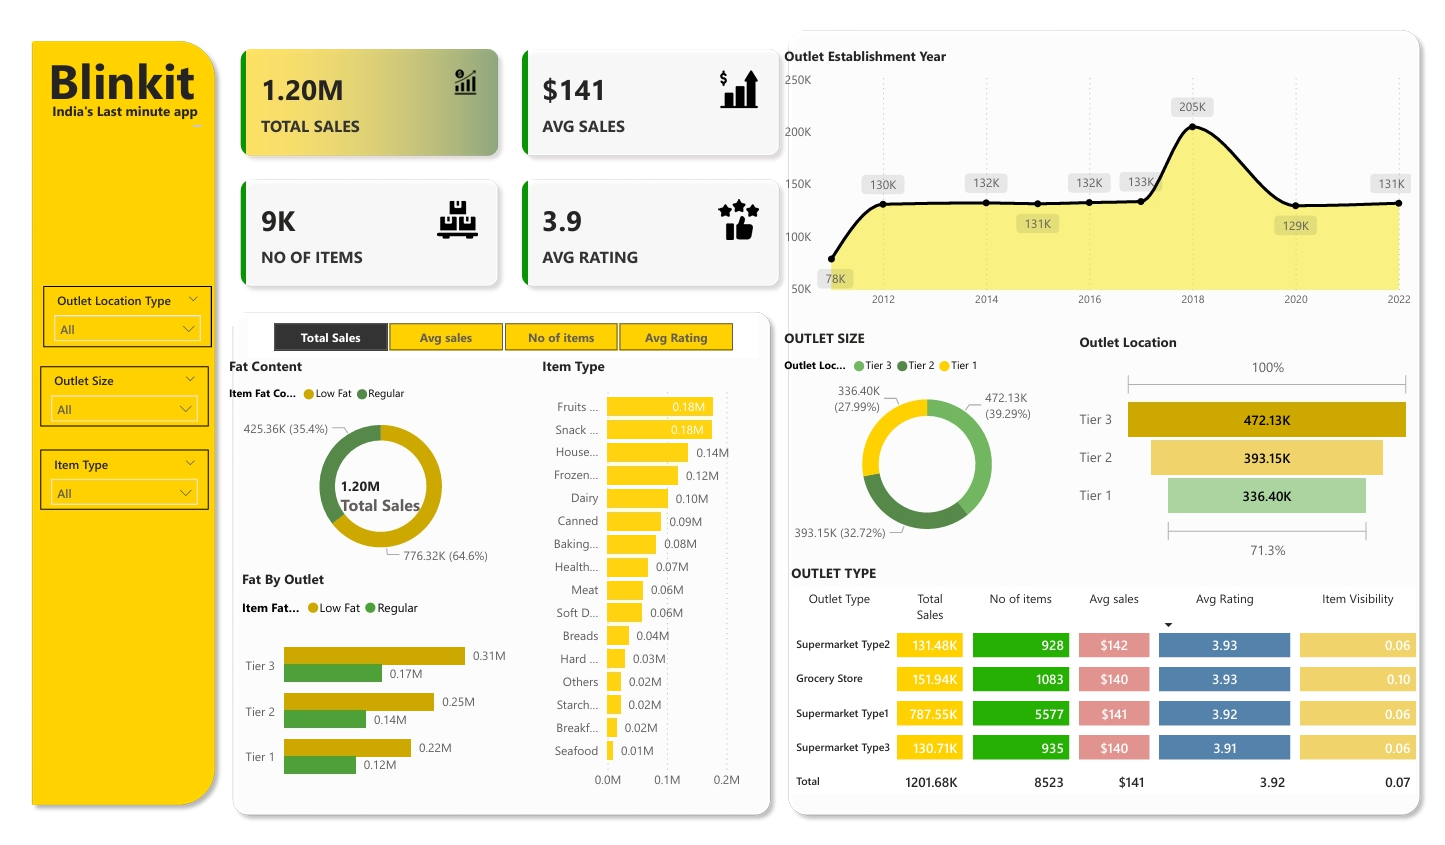

Layout of this report page (visuals, bound fields, positions):
{"tool":"powerbi","page":{"name":"Page 1","canvas":[1400,800],"ordinal":0},"visuals":[{"type":"shape","box":[0,10.5,199.8,779.8],"z":0},{"type":"textbox","box":[268.7,609.4,199.6,165.1],"z":1000},{"type":"textbox","title":"Blinkit","box":[19.5,25.5,160.6,70.5],"z":2000},{"type":"textbox","title":"India''s Last minute app","box":[19.5,81,163.6,28.5],"z":3000},{"type":"cardVisual","fields":{"Data":["BlinkIT Grocery Data.Total Sales","BlinkIT Grocery Data.Avg sales","BlinkIT Grocery Data.No of items","BlinkIT Grocery Data.Avg Rating"]},"box":[199.6,10.5,570.3,270.2],"z":4000},{"type":"shape","box":[199.6,280.7,553.8,519.3],"z":5000},{"type":"donutChart","title":" Fat Content","fields":{"Y":["BlinkIT Grocery Data.Total Sales"],"Category":["BlinkIT Grocery Data.Item Fat Content"]},"box":[199.6,334.7,312.2,213.1],"z":6000},{"type":"slicer","fields":{"Values":["Metrics.Metrics"]},"box":[223.6,294.2,507.3,40.5],"z":7000},{"type":"cardVisual","fields":{"Data":["BlinkIT Grocery Data.Total Sales","BlinkIT Grocery Data.Total Sales"]},"box":[298.7,435.3,114.1,75],"z":8000},{"type":"clusteredBarChart","title":"Fat By Outlet","fields":{"Y":["BlinkIT Grocery Data.Total Sales"],"Category":["BlinkIT Grocery Data.Outlet Location Type"],"Series":["BlinkIT Grocery Data.Item Fat Content"]},"box":[213.4,546.9,275,228.4],"z":9000},{"type":"shape","box":[192.1,547.8,319.7,36],"z":10000},{"type":"barChart","title":" Item Type","fields":{"Y":["BlinkIT Grocery Data.Total Sales"],"Category":["BlinkIT Grocery Data.Item Type"]},"box":[511.8,334.7,229.6,439.8],"z":11000},{"type":"shape","box":[753.4,0,646.9,800],"z":12000},{"type":"lineChart","title":"Outlet Establishment Year","fields":{"Y":["BlinkIT Grocery Data.Total Sales"],"Category":["BlinkIT Grocery Data.Outlet Establishment Year"]},"box":[752.7,25.5,634,268.9],"z":13000},{"type":"donutChart","title":" OUTLET SIZE","fields":{"Y":["BlinkIT Grocery Data.Total Sales"],"Category":["BlinkIT Grocery Data.Outlet Location Type"]},"box":[752.7,306.5,294.5,225.4],"z":14000},{"type":"funnel","title":" Outlet Location ","fields":{"Y":["BlinkIT Grocery Data.Total Sales"],"Category":["BlinkIT Grocery Data.Outlet Location Type"]},"box":[1047.2,311,339.6,229.9],"z":15000},{"type":"pivotTable","title":"OUTLET TYPE","fields":{"Rows":["BlinkIT Grocery Data.Outlet Type"],"Values":["BlinkIT Grocery Data.Total Sales","BlinkIT Grocery Data.No of items","BlinkIT Grocery Data.Avg sales","BlinkIT Grocery Data.Avg Rating","Avg(BlinkIT Grocery Data.Item Visibility)"]},"box":[760.3,540.9,632.5,249.4],"z":16000},{"type":"slicer","fields":{"Values":["BlinkIT Grocery Data.Outlet Location Type"]},"box":[19.5,264.4,168.3,60.1],"z":17000},{"type":"slicer","fields":{"Values":["BlinkIT Grocery Data.Outlet Size"]},"box":[16.5,344.1,168.3,60.1],"z":18000},{"type":"slicer","fields":{"Values":["BlinkIT Grocery Data.Item Type"]},"box":[16.5,426.7,168.3,60.1],"z":19000}]}

Visuals, with their boxes in screenshot pixels (x1, y1, x2, y2), scaled from the page's 1400x800 canvas onto the 1445x845 screenshot:
shape: x1=0 y1=11 x2=206 y2=835
textbox: x1=277 y1=644 x2=483 y2=818
"Blinkit" textbox: x1=20 y1=27 x2=186 y2=101
"India''s Last minute app" textbox: x1=20 y1=86 x2=189 y2=116
cardVisual - BlinkIT Grocery Data.Total Sales x BlinkIT Grocery Data.Avg sales: x1=206 y1=11 x2=795 y2=296
shape: x1=206 y1=296 x2=778 y2=844
" Fat Content" donutChart: x1=206 y1=354 x2=528 y2=579
slicer - Metrics.Metrics: x1=231 y1=311 x2=754 y2=354
cardVisual - BlinkIT Grocery Data.Total Sales x BlinkIT Grocery Data.Total Sales: x1=308 y1=460 x2=426 y2=539
"Fat By Outlet" clusteredBarChart: x1=220 y1=578 x2=504 y2=819
shape: x1=198 y1=579 x2=528 y2=617
" Item Type" barChart: x1=528 y1=354 x2=765 y2=818
shape: x1=778 y1=0 x2=1444 y2=844
"Outlet Establishment Year" lineChart: x1=777 y1=27 x2=1431 y2=311
" OUTLET SIZE" donutChart: x1=777 y1=324 x2=1081 y2=562
" Outlet Location " funnel: x1=1081 y1=328 x2=1431 y2=571
"OUTLET TYPE" pivotTable: x1=785 y1=571 x2=1438 y2=835
slicer - BlinkIT Grocery Data.Outlet Location Type: x1=20 y1=279 x2=194 y2=343
slicer - BlinkIT Grocery Data.Outlet Size: x1=17 y1=363 x2=191 y2=427
slicer - BlinkIT Grocery Data.Item Type: x1=17 y1=451 x2=191 y2=514
